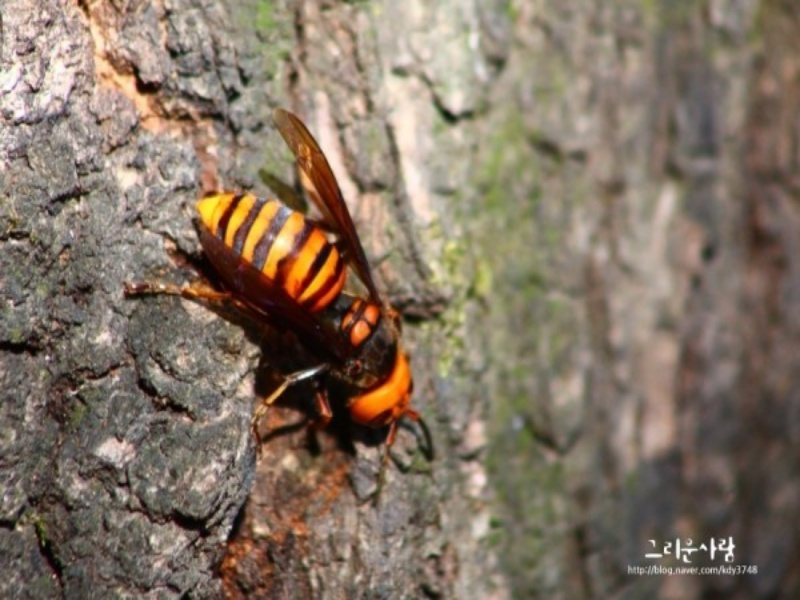asian_giant_hornet: (188, 188, 436, 462)
